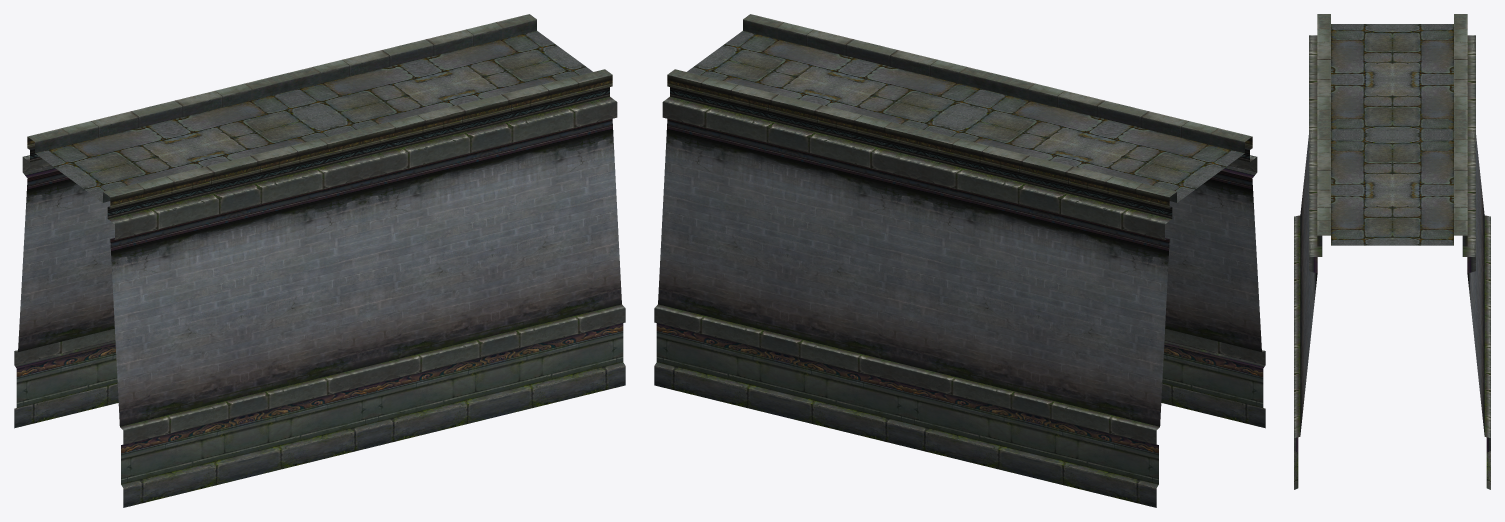
The model's file is HYC_chengqiang_01.FBX.
The picture shows the model from 3 angles, left to right: view 1: azimuth 30°, elevation 25°; view 2: azimuth 150°, elevation 25°; view 3: azimuth 270°, elevation 25°; orthographic projection. The views are drawn at different scales.
Parts seen in each view (by area): view 1: HYC_chengqiang_01; view 2: HYC_chengqiang_01; view 3: HYC_chengqiang_01.
Boxes of the visible parts, <box> form: HYC_chengqiang_01: <box>14,14,625,507</box>; HYC_chengqiang_01: <box>654,14,1265,507</box>; HYC_chengqiang_01: <box>1294,14,1490,489</box>.
Bounding box in the file's own units: 1945 × 1115 × 731.
